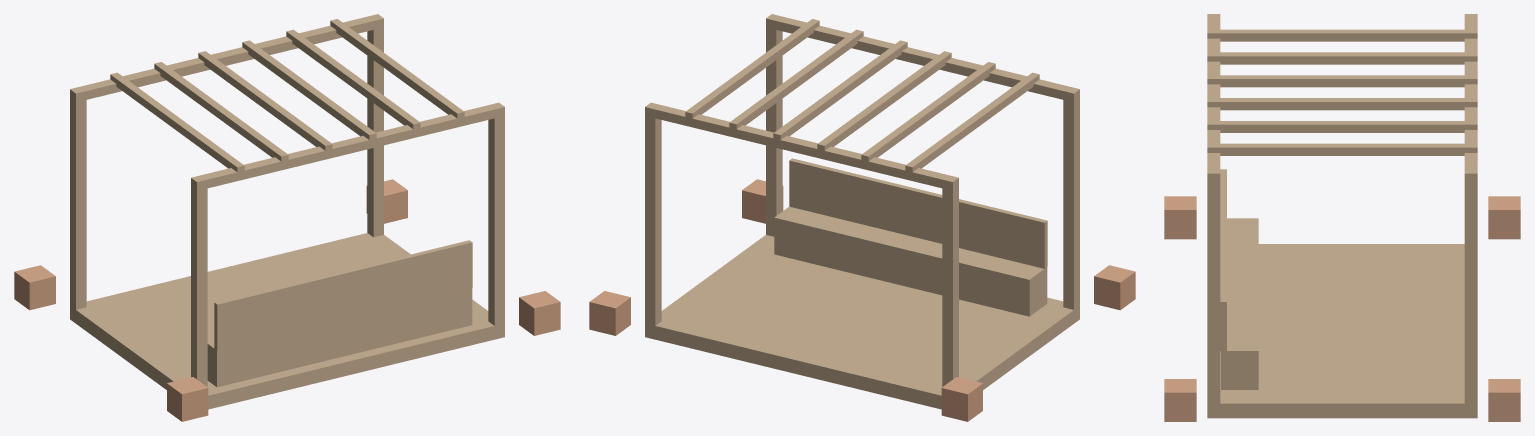
The picture shows the model from 3 angles, left to right: view 1: azimuth 30°, elevation 25°; view 2: azimuth 150°, elevation 25°; view 3: azimuth 270°, elevation 25°; orthographic projection. The views are drawn at different scales.
Visible parts, largest first — view 1: Wood_Deck, Bench_Backrest, Bench_Seat, Main_Beam_Y_-1, Wood_Post_-1_1, Wood_Post_1_-1, Main_Beam_Y_1, Wood_Post_-1_-1, Wood_Post_1_1, Cross_Beam_2, Cross_Beam_1, Cross_Beam_3 (+7 smaller); view 2: Wood_Deck, Bench_Seat, Bench_Backrest, Main_Beam_Y_1, Wood_Post_1_1, Wood_Post_-1_-1, Main_Beam_Y_-1, Wood_Post_-1_1, Wood_Post_1_-1, Cross_Beam_2, Cross_Beam_1, Cross_Beam_3 (+7 smaller); view 3: Wood_Deck, Bench_Seat, Cross_Beam_1, Cross_Beam_2, Cross_Beam_3, Cross_Beam_4, Cross_Beam_6, Cross_Beam_5, Wood_Post_1_-1, Wood_Post_1_1, Main_Beam_Y_-1, Main_Beam_Y_1 (+5 smaller).
Part boxes in pixels (bbox=[...]): Wood_Deck: bbox=[70, 233, 504, 409]; Bench_Backrest: bbox=[214, 240, 472, 350]; Bench_Seat: bbox=[207, 288, 472, 387]; Main_Beam_Y_-1: bbox=[191, 102, 504, 189]; Wood_Post_-1_1: bbox=[70, 94, 86, 309]; Wood_Post_1_-1: bbox=[488, 111, 504, 325]; Main_Beam_Y_1: bbox=[70, 14, 383, 101]; Wood_Post_-1_-1: bbox=[191, 182, 207, 386]; Wood_Post_1_1: bbox=[367, 23, 383, 237]; Cross_Beam_2: bbox=[154, 62, 288, 162]; Cross_Beam_1: bbox=[110, 72, 244, 172]; Cross_Beam_3: bbox=[198, 51, 332, 150]; Wood_Deck: bbox=[645, 235, 1079, 409]; Bench_Seat: bbox=[774, 206, 1047, 316]; Bench_Backrest: bbox=[789, 158, 1047, 268]; Main_Beam_Y_1: bbox=[645, 102, 958, 188]; Wood_Post_1_1: bbox=[645, 111, 661, 325]; Wood_Post_-1_-1: bbox=[1063, 94, 1079, 309]; Main_Beam_Y_-1: bbox=[766, 14, 1079, 102]; Wood_Post_-1_1: bbox=[942, 182, 958, 386]; Wood_Post_1_-1: bbox=[766, 23, 782, 236]; Cross_Beam_2: bbox=[861, 62, 995, 162]; Cross_Beam_1: bbox=[905, 72, 1039, 173]; Cross_Beam_3: bbox=[817, 51, 951, 150]; Wood_Deck: bbox=[1207, 244, 1477, 418]; Bench_Seat: bbox=[1221, 218, 1258, 389]; Cross_Beam_1: bbox=[1207, 29, 1477, 41]; Cross_Beam_2: bbox=[1207, 52, 1477, 64]; Cross_Beam_3: bbox=[1207, 75, 1477, 87]; Cross_Beam_4: bbox=[1207, 98, 1477, 110]; Cross_Beam_6: bbox=[1207, 143, 1477, 155]; Cross_Beam_5: bbox=[1207, 121, 1477, 132]; Wood_Post_1_-1: bbox=[1207, 178, 1220, 403]; Wood_Post_1_1: bbox=[1464, 178, 1477, 403]; Main_Beam_Y_-1: bbox=[1207, 14, 1220, 182]; Main_Beam_Y_1: bbox=[1464, 14, 1477, 180].
Bounding box in the file's own units: 4.3 × 2.55 × 3.3.
